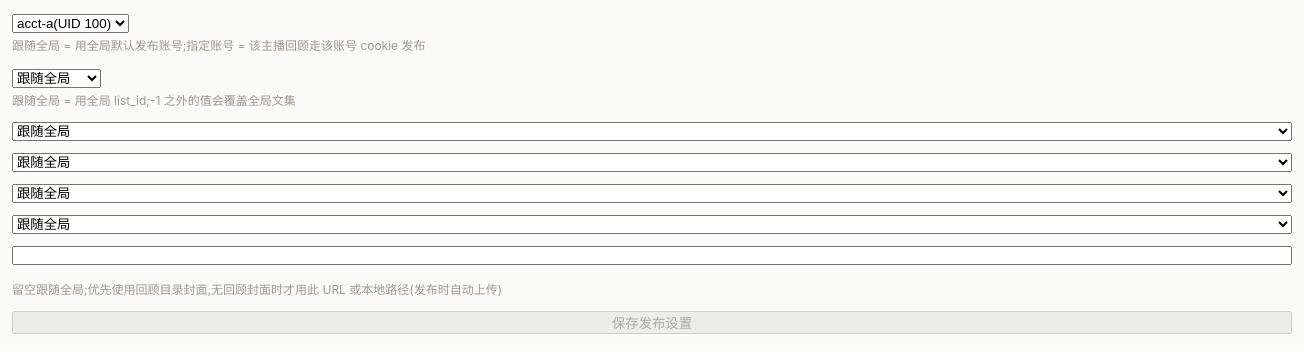
ChannelPublishConfig › codex r18 HIGH:draft 账号 ≠ channel 持久化账号时,展开文集提示先保存
Step 1. Select "acct-b(UID 200)" in the 1st dropdown → (70, 24), box [12,14,129,33]
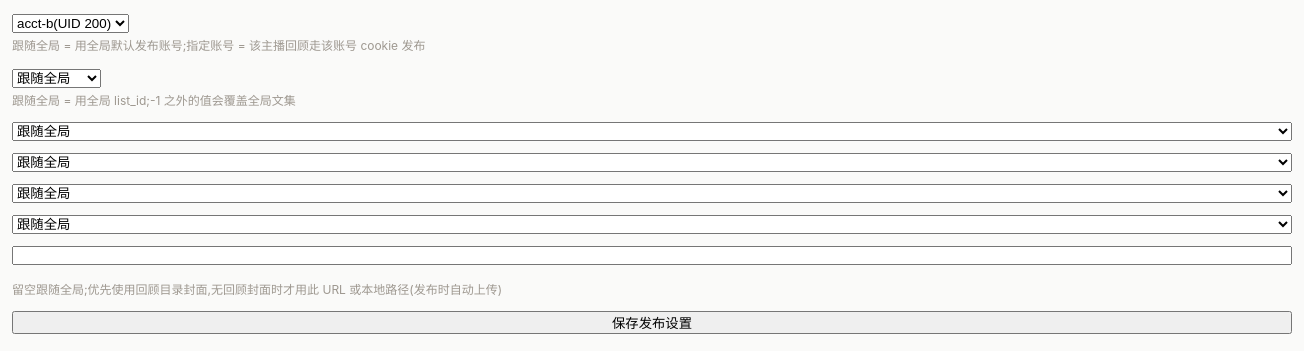
// 触发文集 click
Step 2. Click the 2nd dropdown → (56, 78), box [12,69,101,88]
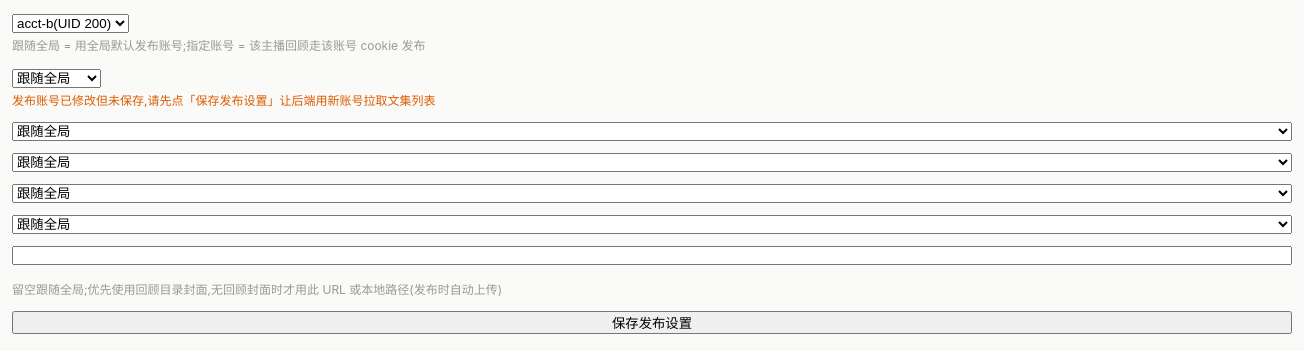
Check: the text "未保存" is shown, box [12,93,436,108]
